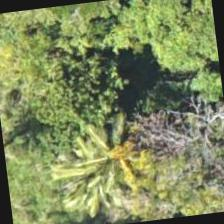Kelapa_Sawit: (58, 124, 159, 223)
